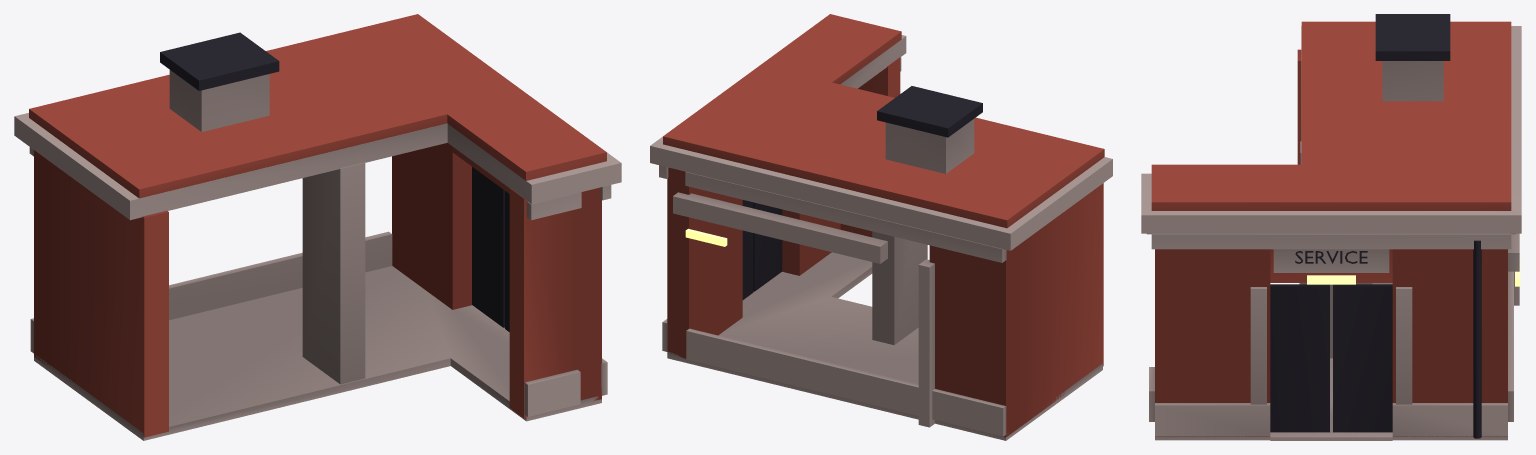
File: kit.zoo-tunnel-mouth.lod1.glb
3 renders of one model, left to right at view 1: azimuth 30°, elevation 25°; view 2: azimuth 150°, elevation 25°; view 3: azimuth 270°, elevation 25°, orthographic. The views are drawn at different scales.
Visible parts, largest first — view 1: body, door_main_right, door_main; view 2: body, door_main, door_main_right; view 3: body, door_main, door_main_right, body_emi_windowGlow.
Part boxes in pixels (left/top/right/bottom): body: left=14, top=14, right=621, bottom=440; door_main_right: left=472, top=167, right=504, bottom=327; door_main: left=505, top=191, right=509, bottom=331; body: left=650, top=14, right=1112, bottom=440; door_main: left=753, top=202, right=782, bottom=291; door_main_right: left=742, top=200, right=753, bottom=299; body: left=1141, top=14, right=1521, bottom=440; door_main: left=1270, top=284, right=1329, bottom=432; door_main_right: left=1333, top=284, right=1392, bottom=432; body_emi_windowGlow: left=1307, top=259, right=1520, bottom=286.
Size of the model in its own units: 6.6 by 4.76 by 5.6.
